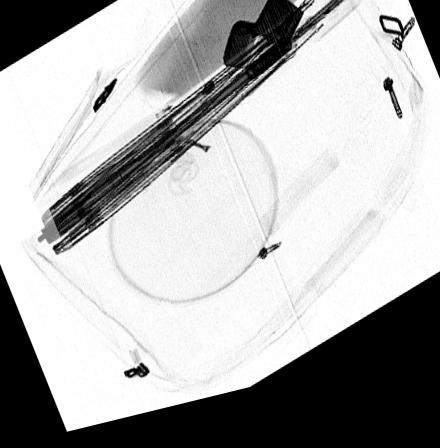Lighter: (222, 4, 304, 80)
